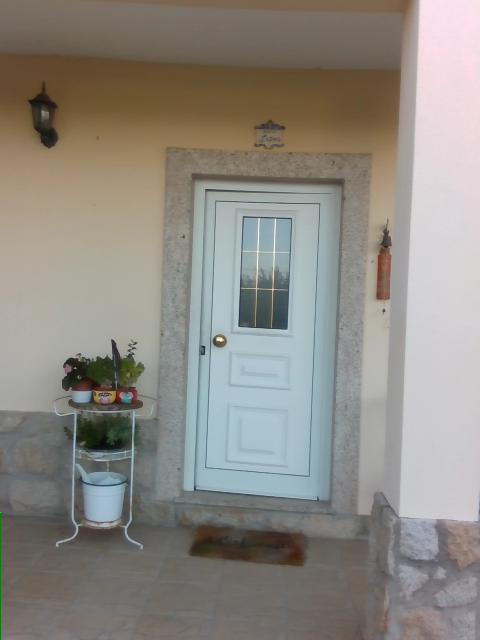door: (180, 177, 345, 510)
